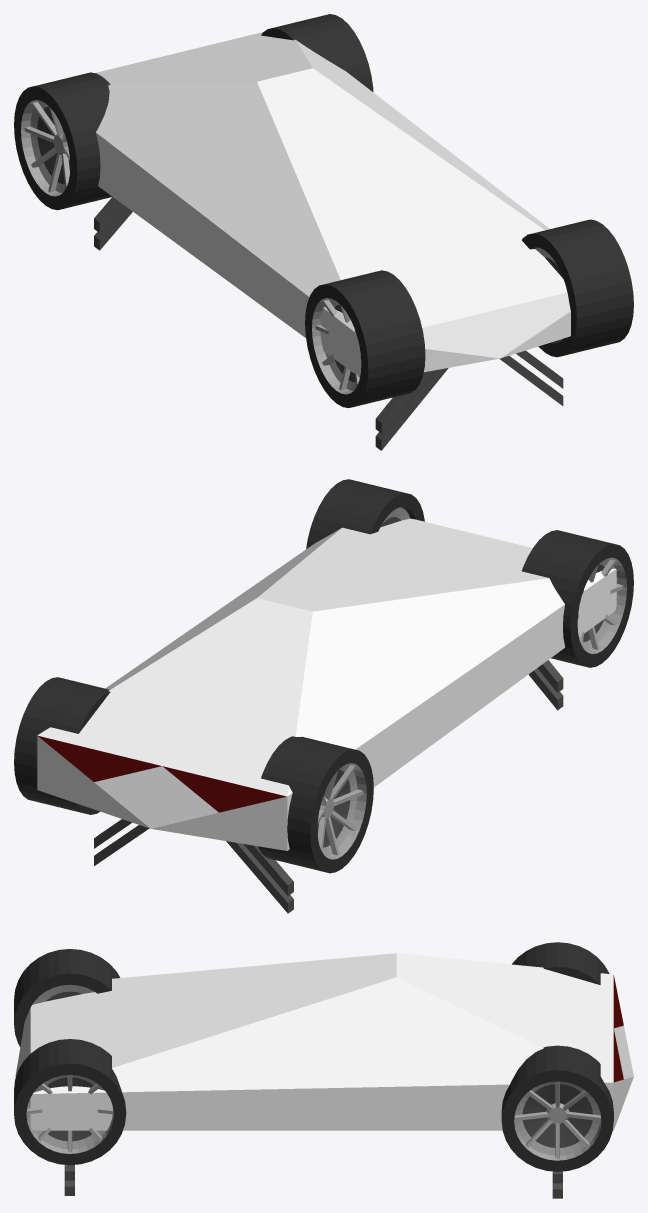
Rendered from hitbox.glb.
3 views of the same model, one above another, from view 1: azimuth 30°, elevation 25°; view 2: azimuth 150°, elevation 25°; view 3: azimuth 270°, elevation 25° (orthographic). The views are drawn at different scales.
Parts seen in each view (by area): view 1: Body, WheelFR, WheelBR, WheelFL, WheelBL, SuspensionFR, SuspensionFL, SuspensionBR; view 2: Body, WheelBR, WheelFR, WheelBL, WheelFL, SuspensionBR, SuspensionFR, SuspensionBL; view 3: Body, WheelBL, WheelFL, WheelFR, WheelBR.
Boxes of the visible parts, left/top/right/bottom form: Body: left=95, top=32, right=570, bottom=377; WheelFR: left=305, top=270, right=425, bottom=407; WheelBR: left=14, top=72, right=112, bottom=210; WheelFL: left=522, top=219, right=633, bottom=357; WheelBL: left=261, top=14, right=373, bottom=92; SuspensionFR: left=375, top=368, right=448, bottom=450; SuspensionFL: left=499, top=350, right=563, bottom=405; SuspensionBR: left=94, top=197, right=132, bottom=250; Body: left=37, top=518, right=616, bottom=850; WheelBR: left=258, top=736, right=373, bottom=873; WheelFR: left=522, top=530, right=633, bottom=667; WheelBL: left=14, top=677, right=110, bottom=814; WheelFL: left=306, top=479, right=424, bottom=549; SuspensionBR: left=226, top=841, right=293, bottom=913; SuspensionFR: left=528, top=660, right=563, bottom=710; SuspensionBL: left=94, top=819, right=149, bottom=865; Body: left=15, top=953, right=633, bottom=1130; WheelBL: left=501, top=1045, right=613, bottom=1171; WheelFL: left=14, top=1039, right=126, bottom=1165; WheelFR: left=14, top=949, right=120, bottom=1046; WheelBR: left=512, top=942, right=609, bottom=984.
Size of what is drawn, in the model's own units: 1.79 by 1.25 by 3.65.
